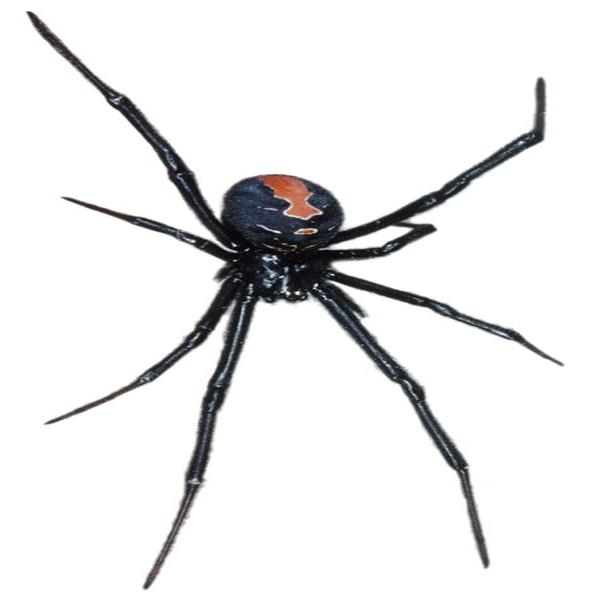Redback Spider: (34, 17, 566, 568)
